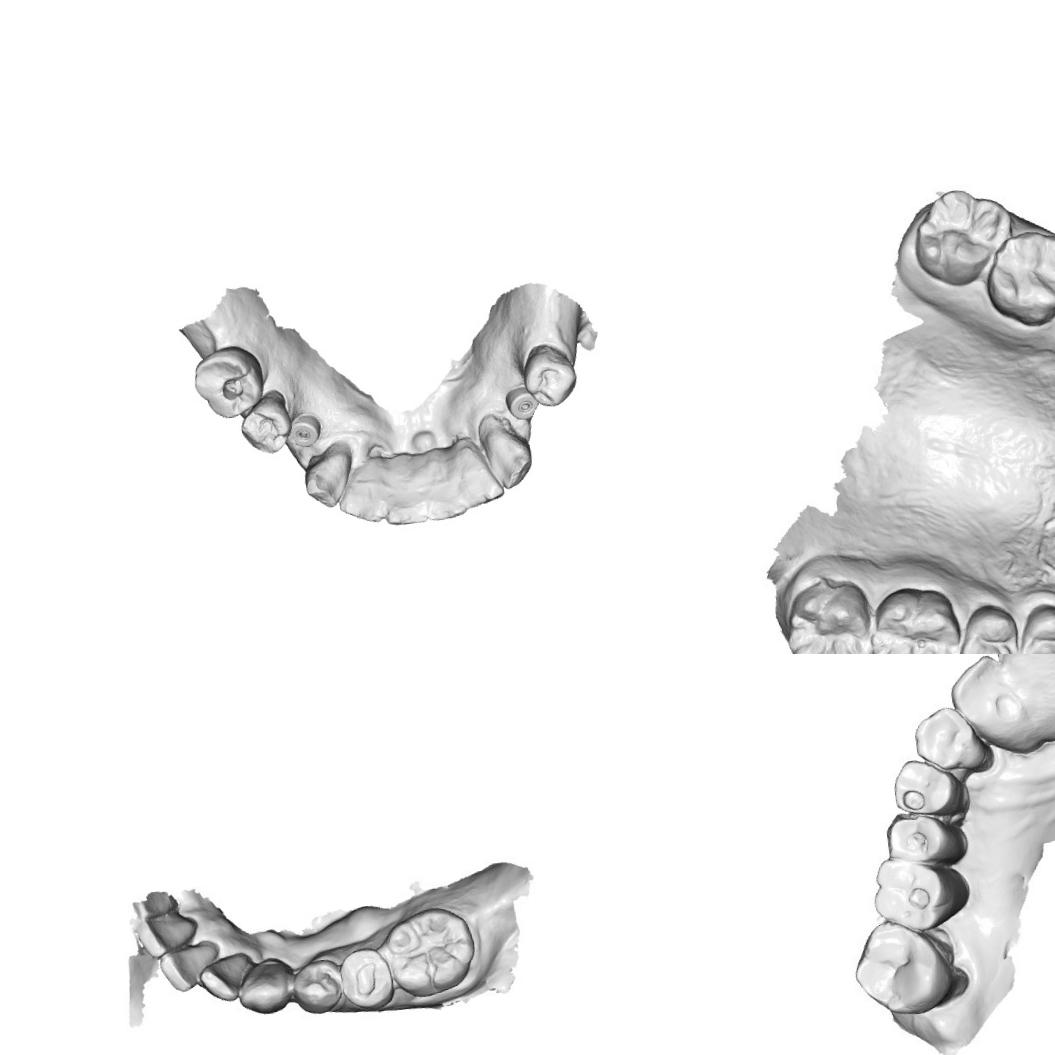canine: (909, 702, 998, 786), (232, 953, 298, 1019), (478, 421, 538, 492), (299, 449, 355, 510)
implant: (501, 382, 543, 424), (287, 412, 324, 450)
incisor: (955, 654, 1032, 762), (998, 654, 1055, 748), (331, 454, 392, 528), (376, 456, 433, 529), (451, 440, 507, 512), (133, 908, 210, 959), (196, 946, 260, 1007), (158, 938, 225, 996), (420, 452, 470, 524)
molar: (846, 912, 978, 1024), (908, 185, 1008, 283), (869, 850, 979, 934), (384, 909, 474, 993), (984, 224, 1055, 327), (863, 580, 961, 654), (779, 577, 873, 654), (188, 340, 268, 424)
premolar: (884, 752, 974, 832), (884, 806, 974, 876), (518, 346, 582, 410), (235, 394, 294, 458), (956, 601, 1024, 654), (288, 958, 345, 1020), (337, 950, 392, 1008), (1012, 598, 1055, 654)
